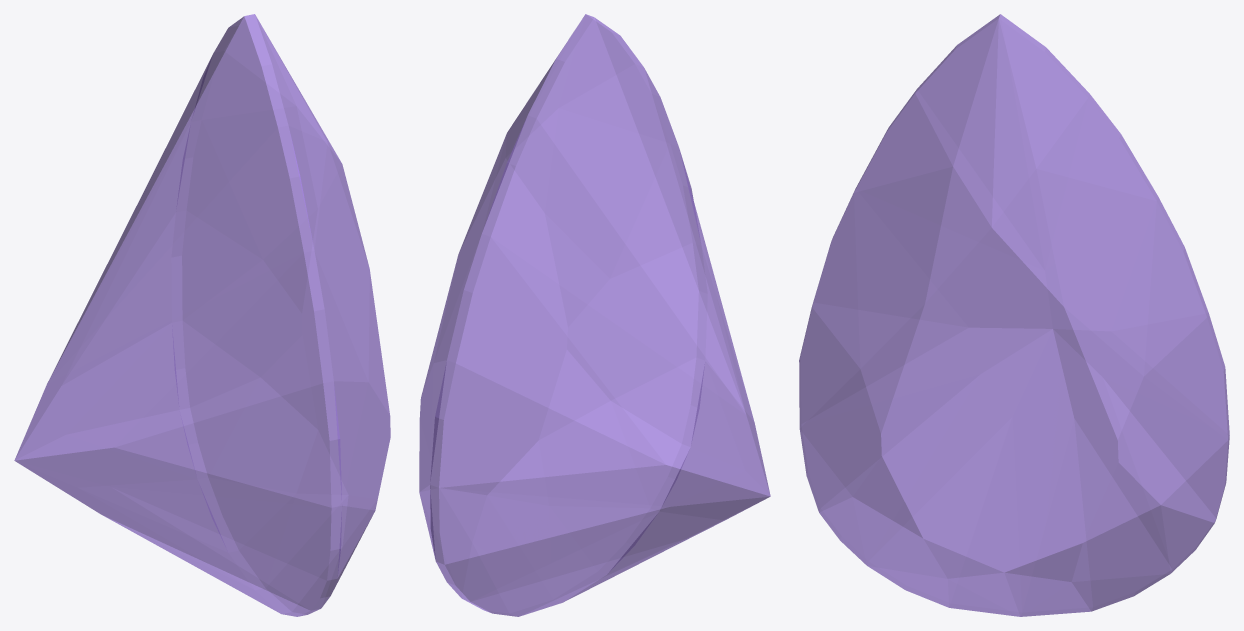
The model's file is pear ametiste.glb.
3 views of the same model, side by side, from view 1: azimuth 30°, elevation 25°; view 2: azimuth 150°, elevation 25°; view 3: azimuth 270°, elevation 25° (orthographic).
Parts seen in each view (by area): view 1: Pear (tear); view 2: Pear (tear); view 3: Pear (tear).
Boxes of the visible parts, x1,y1,x2,y2 form: Pear (tear): (14, 14, 390, 616); Pear (tear): (419, 14, 770, 616); Pear (tear): (799, 14, 1229, 616).
Size of the model in its own units: 1.19 by 2.09 by 1.39.
